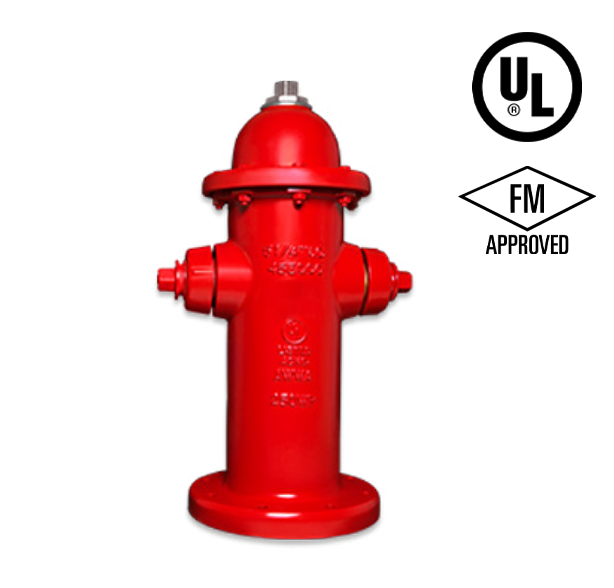FireHydrant: (142, 69, 418, 549)
